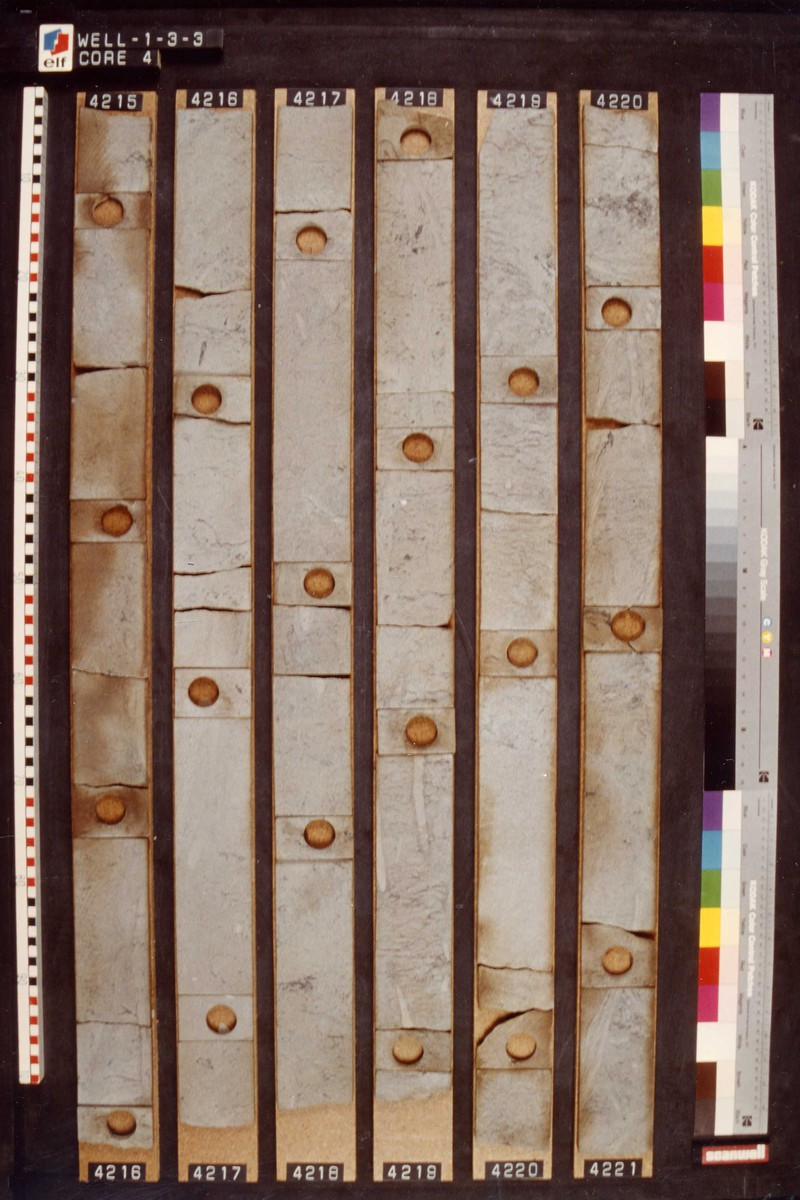core: (71, 109, 160, 1150), (172, 109, 261, 1136), (473, 110, 556, 1156), (272, 106, 356, 1114), (374, 101, 457, 1104), (581, 106, 660, 1157)
